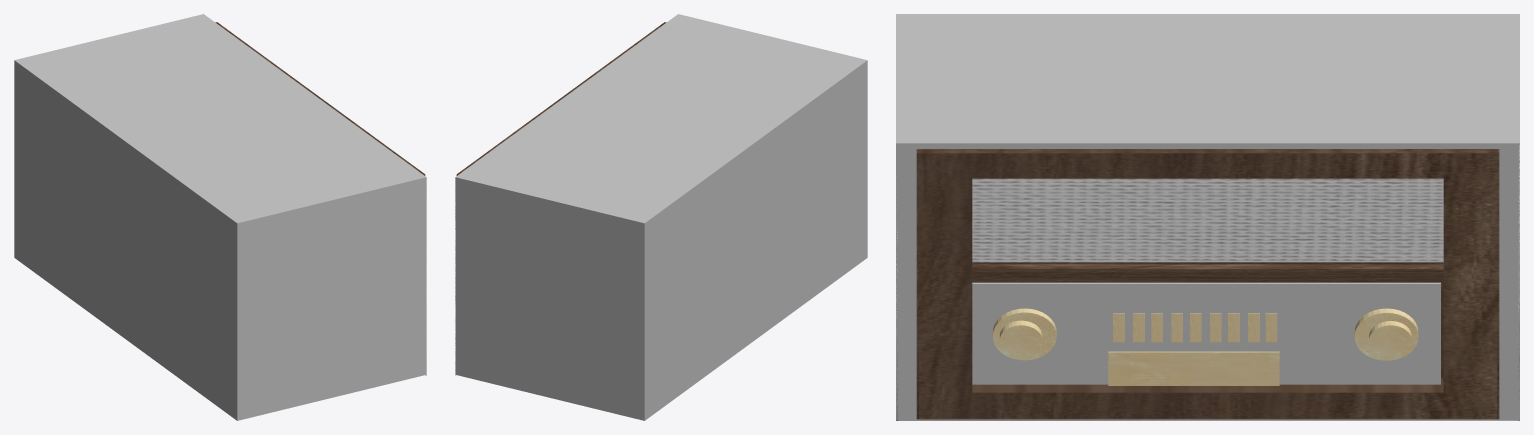
Rendered from radio.fbx.
The picture shows the model from 3 angles, left to right: view 1: azimuth 30°, elevation 25°; view 2: azimuth 150°, elevation 25°; view 3: azimuth 270°, elevation 25°; orthographic projection. The views are drawn at different scales.
Visible parts, largest first — view 1: Radio; view 2: Radio; view 3: Radio.
Boxes of the visible parts, <box> form: Radio: <box>14,14,426,420</box>; Radio: <box>455,14,867,420</box>; Radio: <box>896,14,1519,420</box>.
Size of the model in its own units: 102 by 98.28 by 200.
